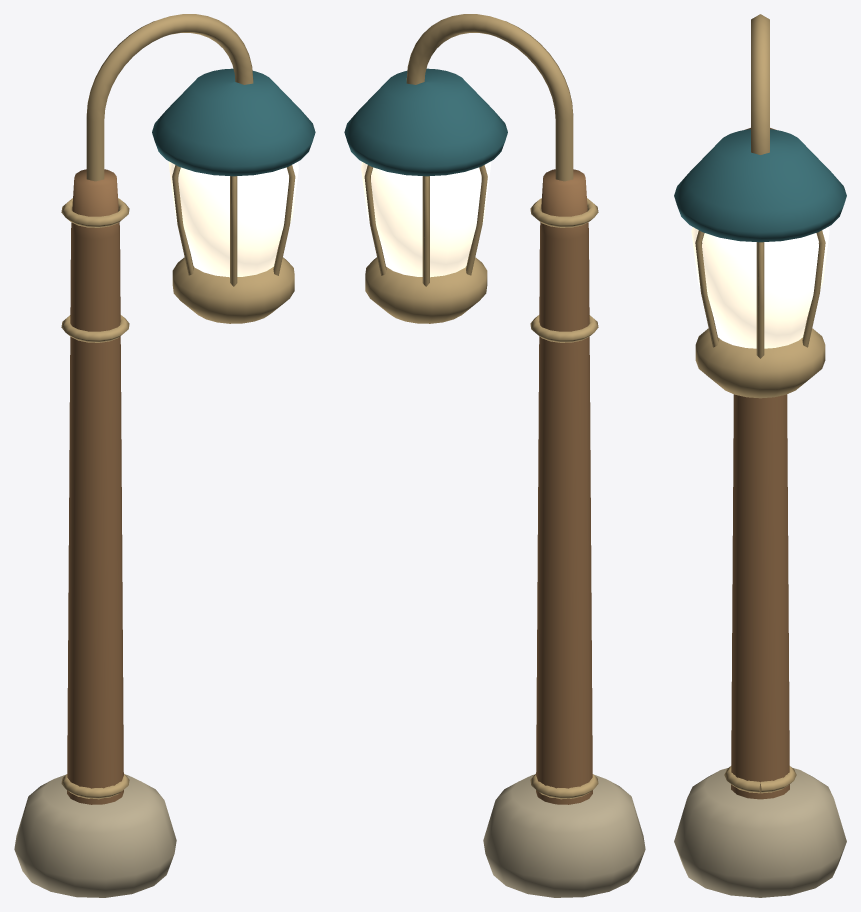
File: street_lantern_atelier.glb
The picture shows the model from 3 angles, left to right: view 1: azimuth 30°, elevation 25°; view 2: azimuth 150°, elevation 25°; view 3: azimuth 270°, elevation 25°; orthographic projection. The views are drawn at different scales.
Visible parts, largest first — view 1: street_lantern_atelier__TaggedPainted_StreetLamp_Matte, street_lantern_atelier__Painted_StreetLamp_Metal, street_lantern_atelier__Painted_StreetLamp_Glaze, street_lantern_atelier__Painted_StreetLamp_Glow; view 2: street_lantern_atelier__TaggedPainted_StreetLamp_Matte, street_lantern_atelier__Painted_StreetLamp_Metal, street_lantern_atelier__Painted_StreetLamp_Glaze, street_lantern_atelier__Painted_StreetLamp_Glow; view 3: street_lantern_atelier__TaggedPainted_StreetLamp_Matte, street_lantern_atelier__Painted_StreetLamp_Glaze, street_lantern_atelier__Painted_StreetLamp_Metal, street_lantern_atelier__Painted_StreetLamp_Glow.
Boxes of the visible parts, <box> form: street_lantern_atelier__TaggedPainted_StreetLamp_Matte: <box>14,169,176,897</box>; street_lantern_atelier__Painted_StreetLamp_Metal: <box>61,14,295,799</box>; street_lantern_atelier__Painted_StreetLamp_Glaze: <box>152,68,315,176</box>; street_lantern_atelier__Painted_StreetLamp_Glow: <box>168,161,298,277</box>; street_lantern_atelier__TaggedPainted_StreetLamp_Matte: <box>483,169,645,897</box>; street_lantern_atelier__Painted_StreetLamp_Metal: <box>364,14,598,799</box>; street_lantern_atelier__Painted_StreetLamp_Glaze: <box>344,68,507,176</box>; street_lantern_atelier__Painted_StreetLamp_Glow: <box>361,161,491,277</box>; street_lantern_atelier__TaggedPainted_StreetLamp_Matte: <box>674,128,846,897</box>; street_lantern_atelier__Painted_StreetLamp_Glaze: <box>674,129,846,242</box>; street_lantern_atelier__Painted_StreetLamp_Metal: <box>695,14,825,793</box>; street_lantern_atelier__Painted_StreetLamp_Glow: <box>691,227,829,348</box>.
Bounding box in the file's own units: 0.79 × 2.25 × 0.4.
